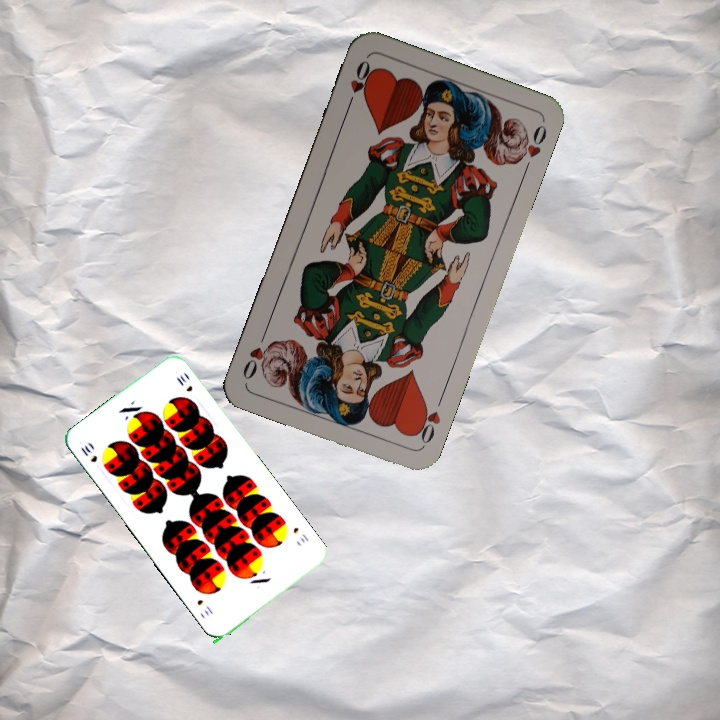HO: (409, 392, 446, 449), (343, 56, 376, 111)
S10: (77, 439, 100, 465), (289, 523, 312, 546)
